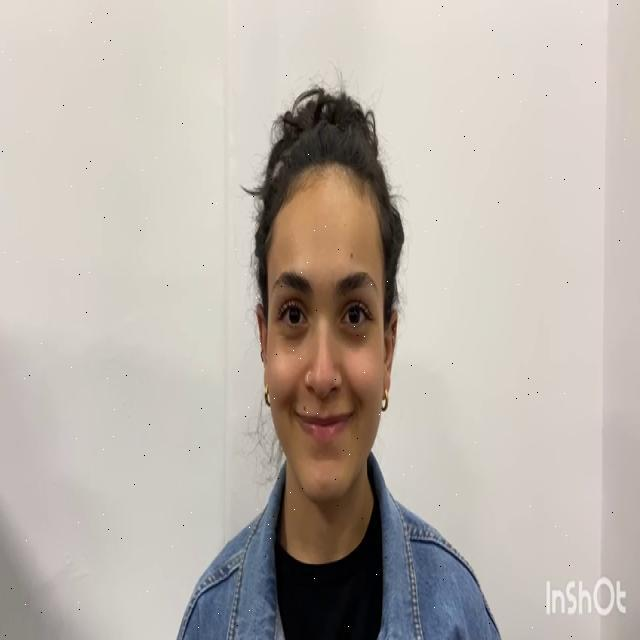happy: (263, 163, 387, 508)
